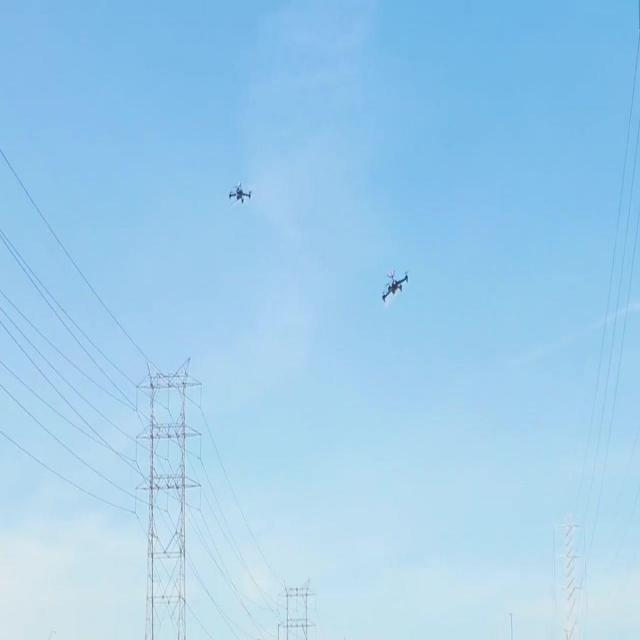UAV: (381, 266, 409, 306), (228, 183, 253, 206)
